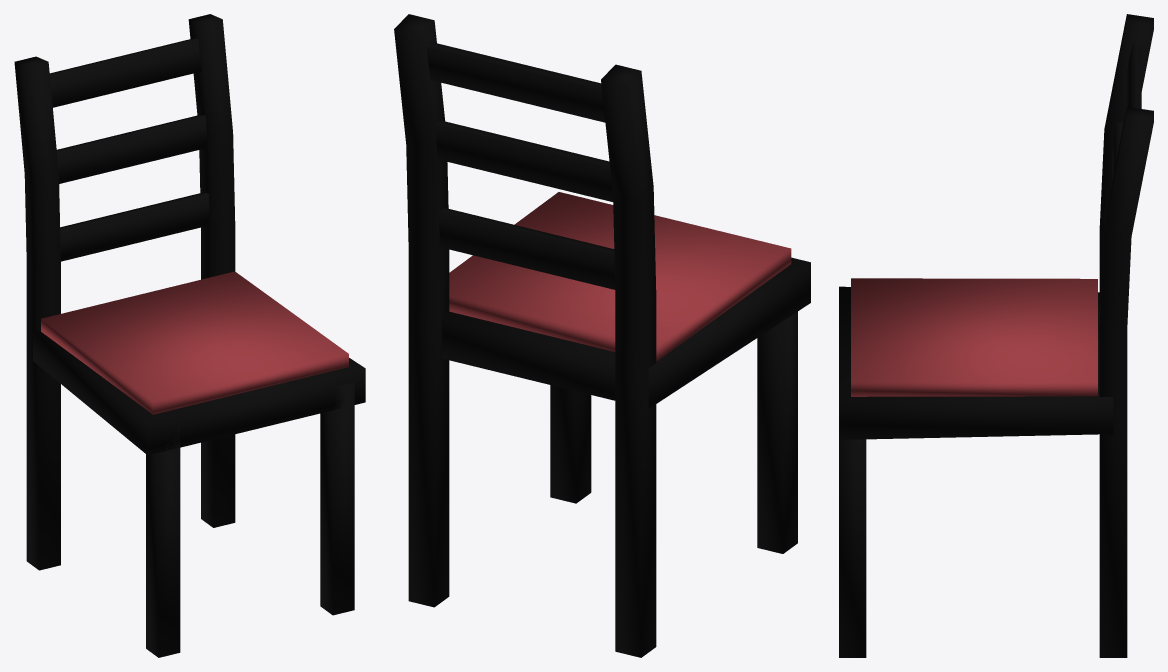
The model's file is Table Chair.fbx.
The picture shows the model from 3 angles, left to right: view 1: azimuth 30°, elevation 25°; view 2: azimuth 150°, elevation 25°; view 3: azimuth 270°, elevation 25°; orthographic projection. The views are drawn at different scales.
Parts seen in each view (by area): view 1: Chaise 04.001; view 2: Chaise 04.001; view 3: Chaise 04.001.
Boxes of the visible parts, <box> form: Chaise 04.001: <box>14,14,365,657</box>; Chaise 04.001: <box>394,14,810,657</box>; Chaise 04.001: <box>839,14,1153,657</box>.
Size of the model in its own units: 1.2 by 2.6 by 1.38.
